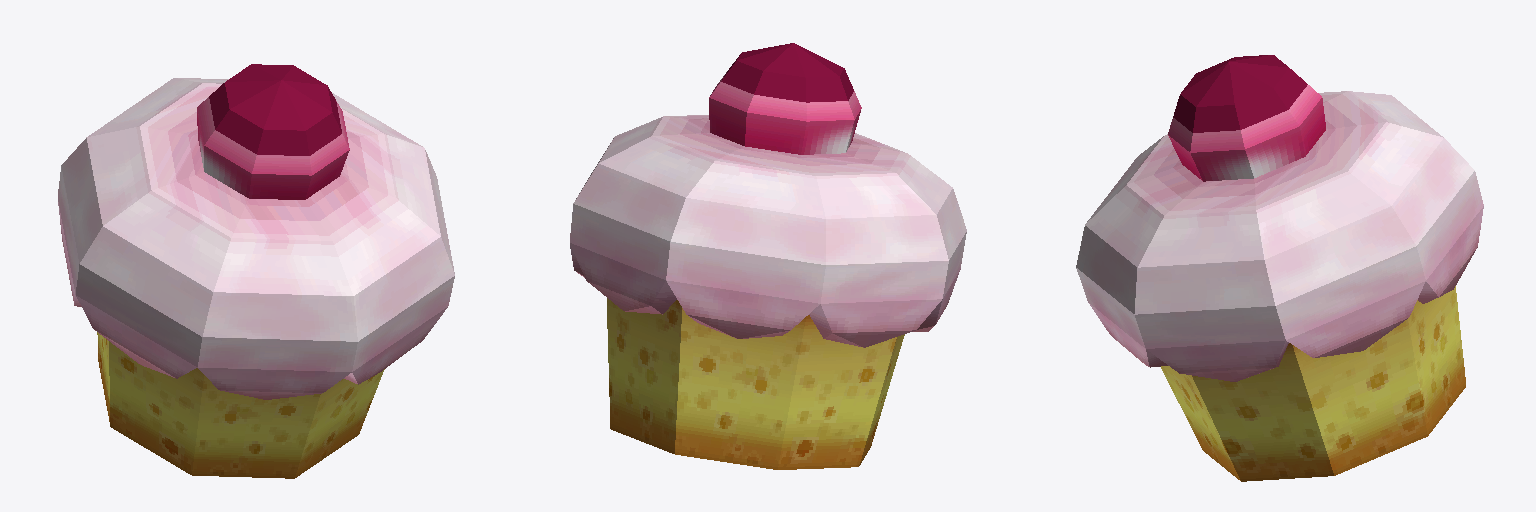
3 views of the same model, side by side, from view 1: azimuth 30°, elevation 25°; view 2: azimuth 150°, elevation 25°; view 3: azimuth 270°, elevation 25° (orthographic).
Parts seen in each view (by area): view 1: polygon0, polygon1; view 2: polygon0, polygon1; view 3: polygon0, polygon1.
Part boxes in pixels (left/top/right/bottom): polygon0: left=58, top=78, right=454, bottom=478; polygon1: left=197, top=64, right=349, bottom=199; polygon0: left=570, top=115, right=966, bottom=469; polygon1: left=709, top=43, right=861, bottom=154; polygon0: left=1076, top=91, right=1483, bottom=481; polygon1: left=1168, top=55, right=1325, bottom=181.
Bounding box in the file's own units: 0.8597 × 0.8936 × 0.8496.
2 materials, 2 textured.